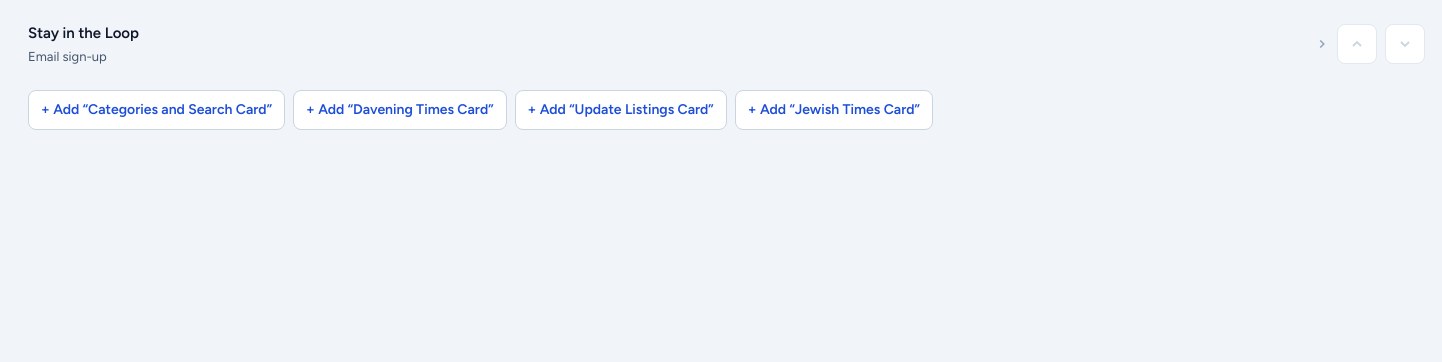
Scenario: DesktopTopicsManager › shows a hint explaining pairing only once a card is set to Half width
Step 1. Click the button "Stay in the Loop Email sign-up" → [84, 33], box [12,12,1329,76]
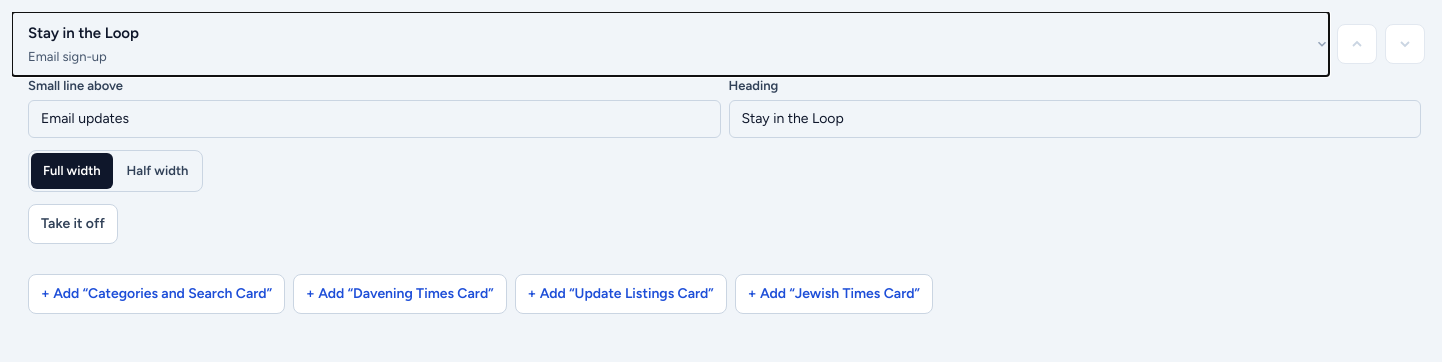
Expected: the text "beside the next half-width card" is not shown
Step 2. Click the button "Half width" → [158, 170], box [115,152,200,188]
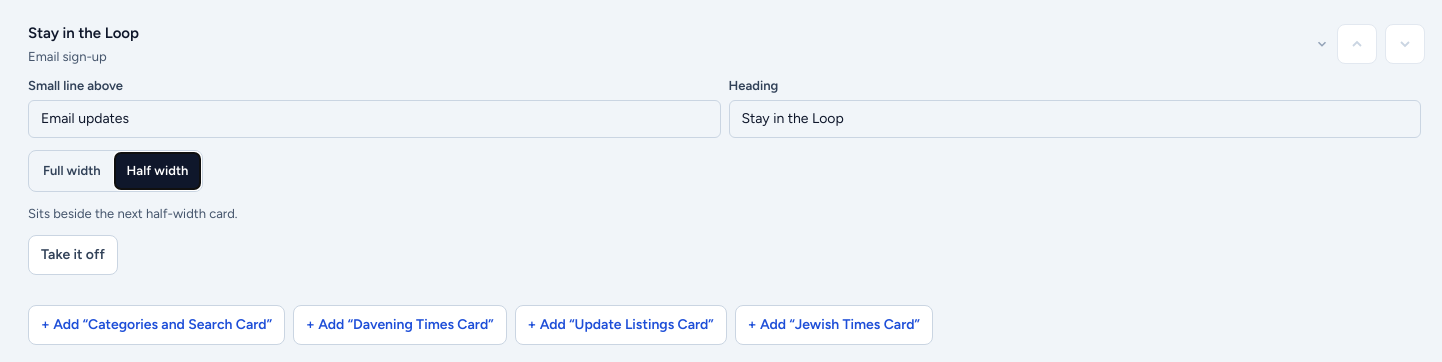
Expected: the text "Sits beside the next half-width card." is shown, [28,206,238,220]
